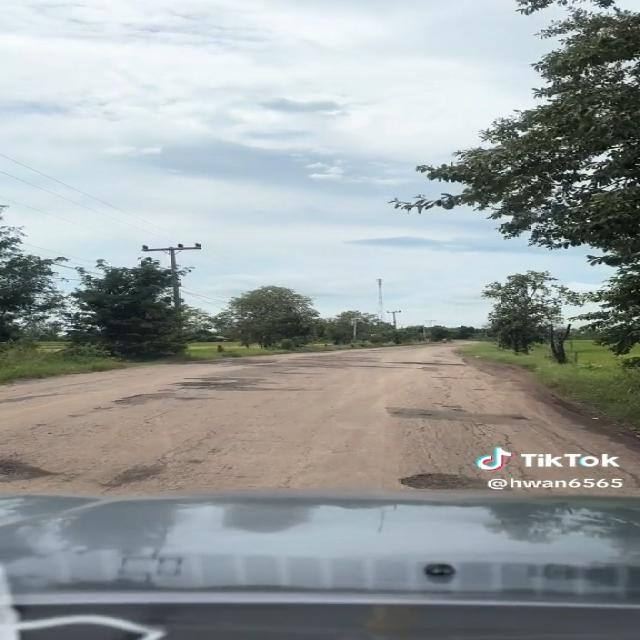Poth-hole: (46, 407, 227, 472)
